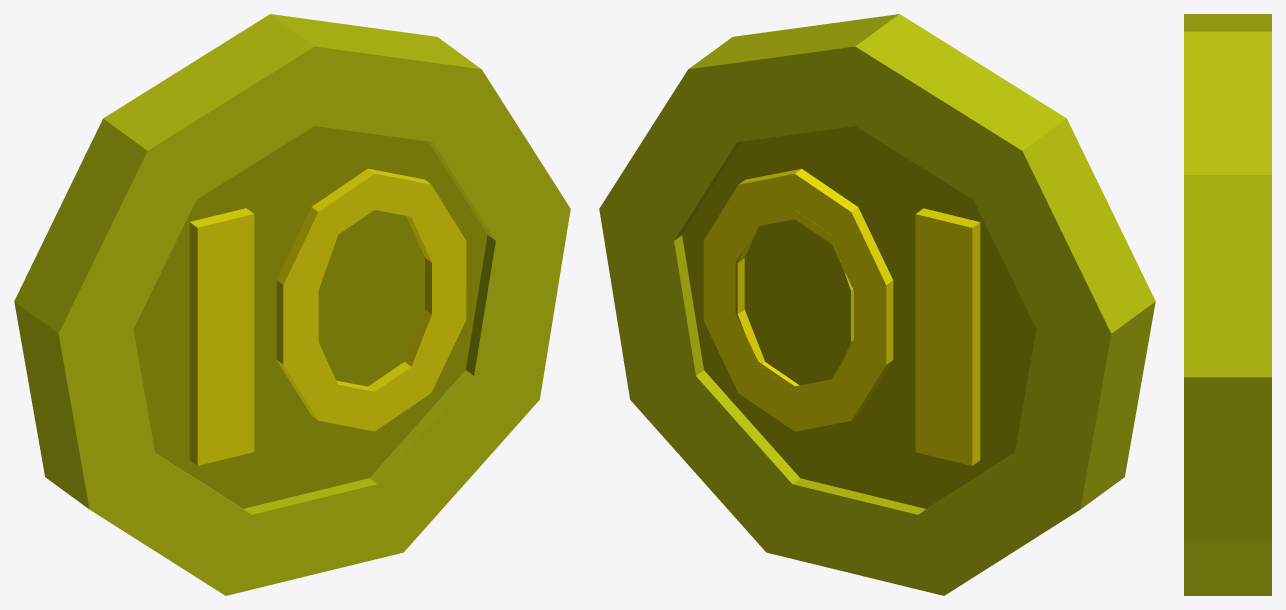
The model's file is 10-coin.glb.
3 views of the same model, side by side, from view 1: azimuth 30°, elevation 25°; view 2: azimuth 150°, elevation 25°; view 3: azimuth 270°, elevation 25° (orthographic).
Visible parts, largest first — view 1: Cube; view 2: Cube; view 3: Cube.
Boxes of the visible parts, x1,y1,x2,y2 form: Cube: (14,14,570,595); Cube: (599,14,1155,595); Cube: (1184,14,1271,595).
Bounding box in the file's own units: 3.42 × 3.37 × 0.5139.
